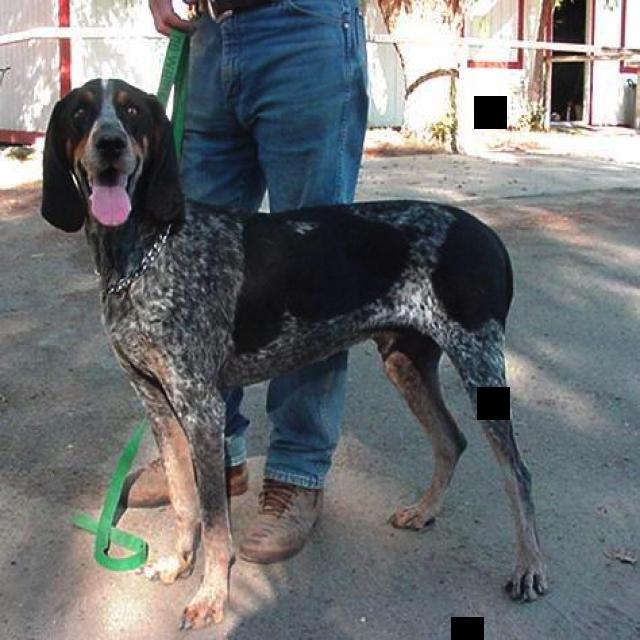adult_dog: (41, 76, 556, 633)
